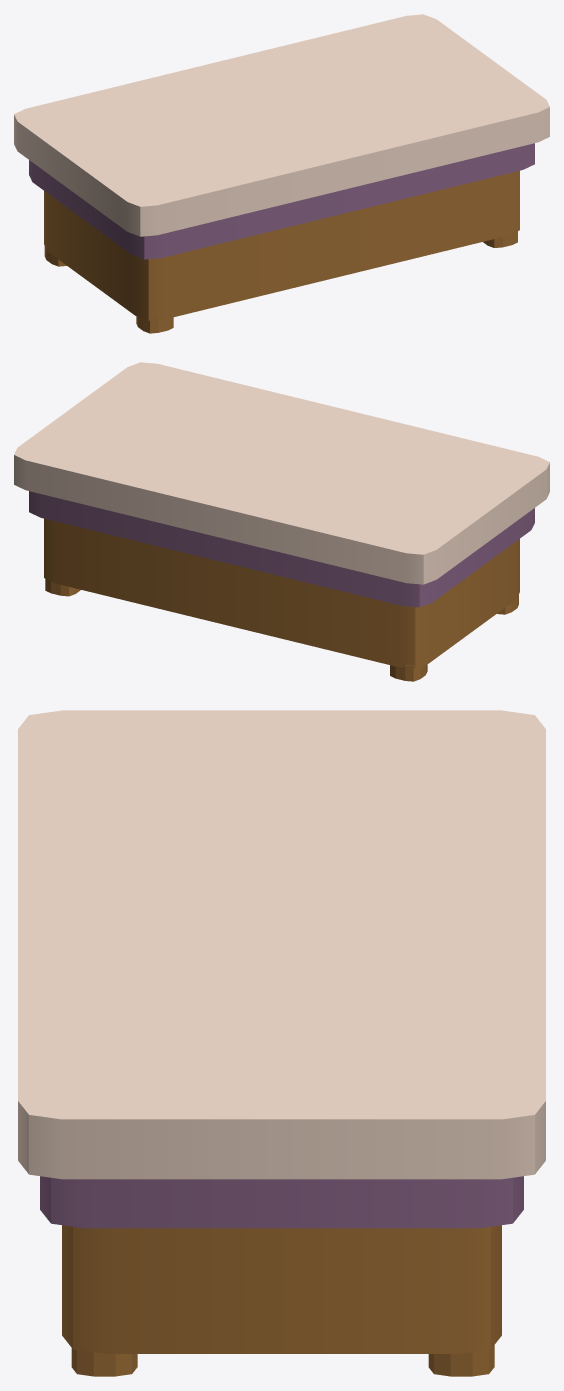
The model's file is Sofa_Table.fbx.
3 views of the same model, one above another, from view 1: azimuth 30°, elevation 25°; view 2: azimuth 150°, elevation 25°; view 3: azimuth 270°, elevation 25° (orthographic). The views are drawn at different scales.
Visible parts, largest first — view 1: Sofa_Table; view 2: Sofa_Table; view 3: Sofa_Table.
Part boxes in pixels (left/top/right/bottom): Sofa_Table: left=14, top=14, right=549, bottom=333; Sofa_Table: left=14, top=362, right=549, bottom=681; Sofa_Table: left=18, top=710, right=545, bottom=1376.
Size of the model in its own units: 220 by 70.01 by 120.
